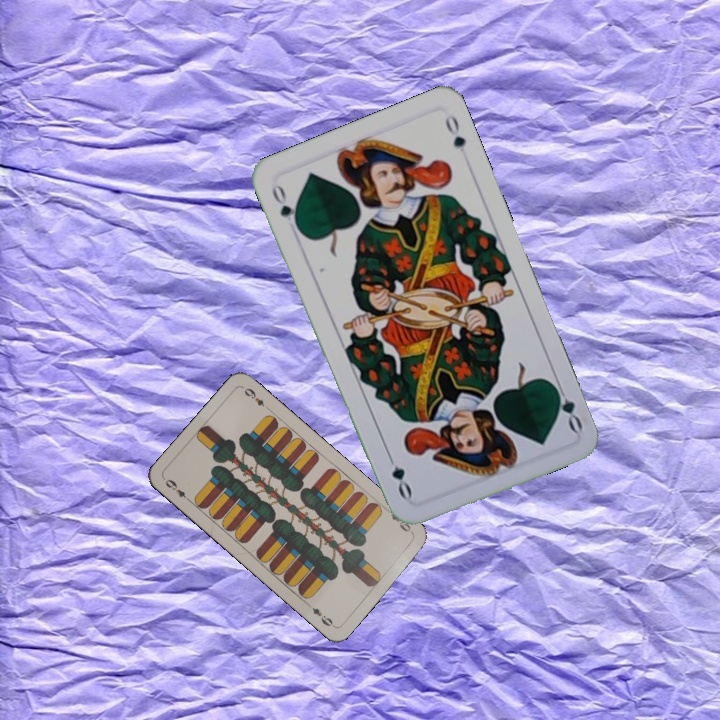E9: (160, 475, 194, 505)
GO: (548, 377, 586, 435), (267, 180, 303, 234)
